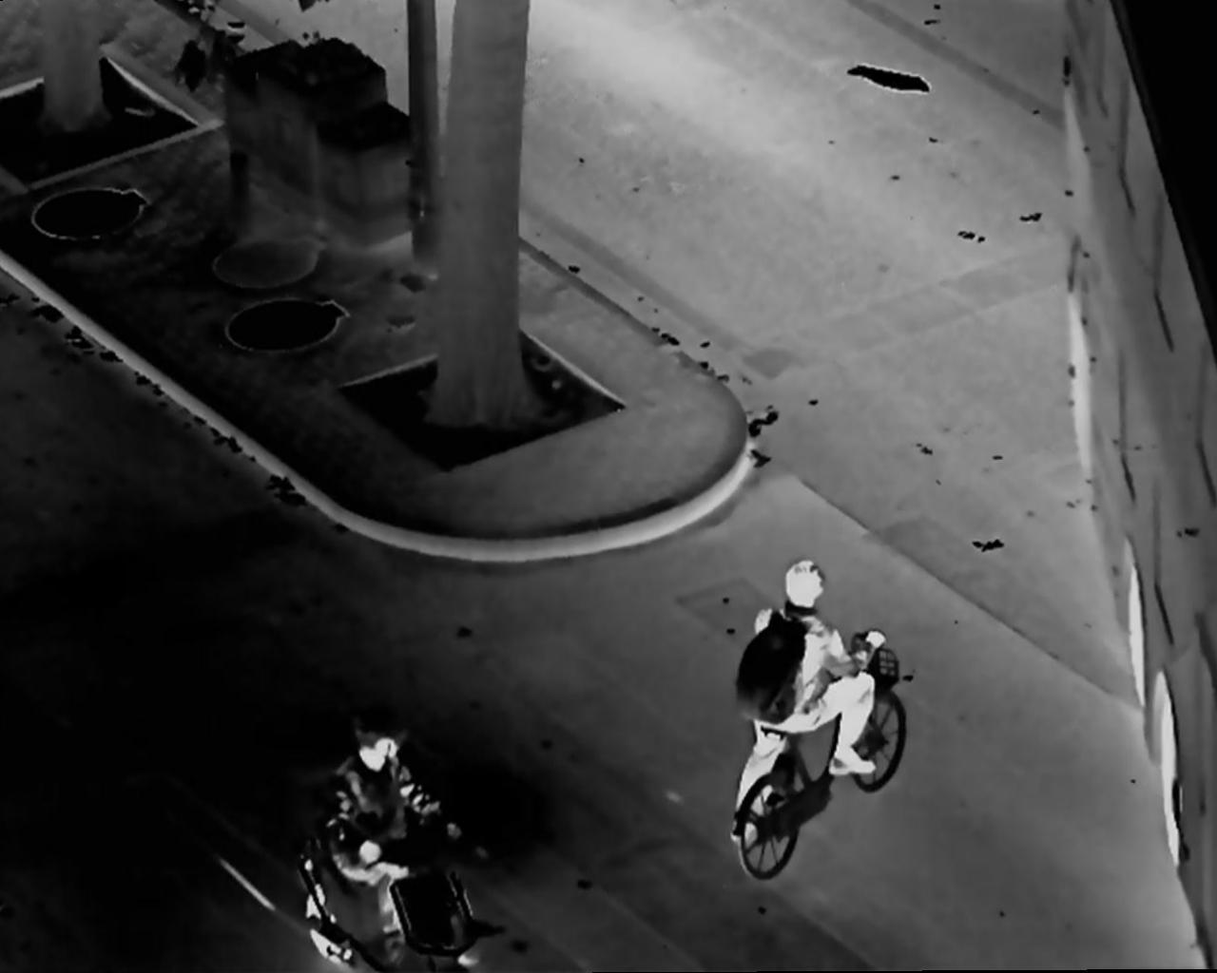person: (730, 557, 884, 847), (314, 712, 473, 972)
